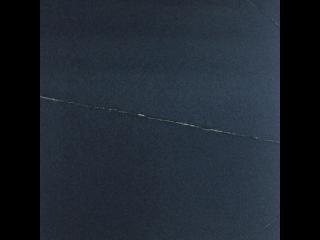crack: (39, 85, 281, 154), (247, 0, 282, 30)
